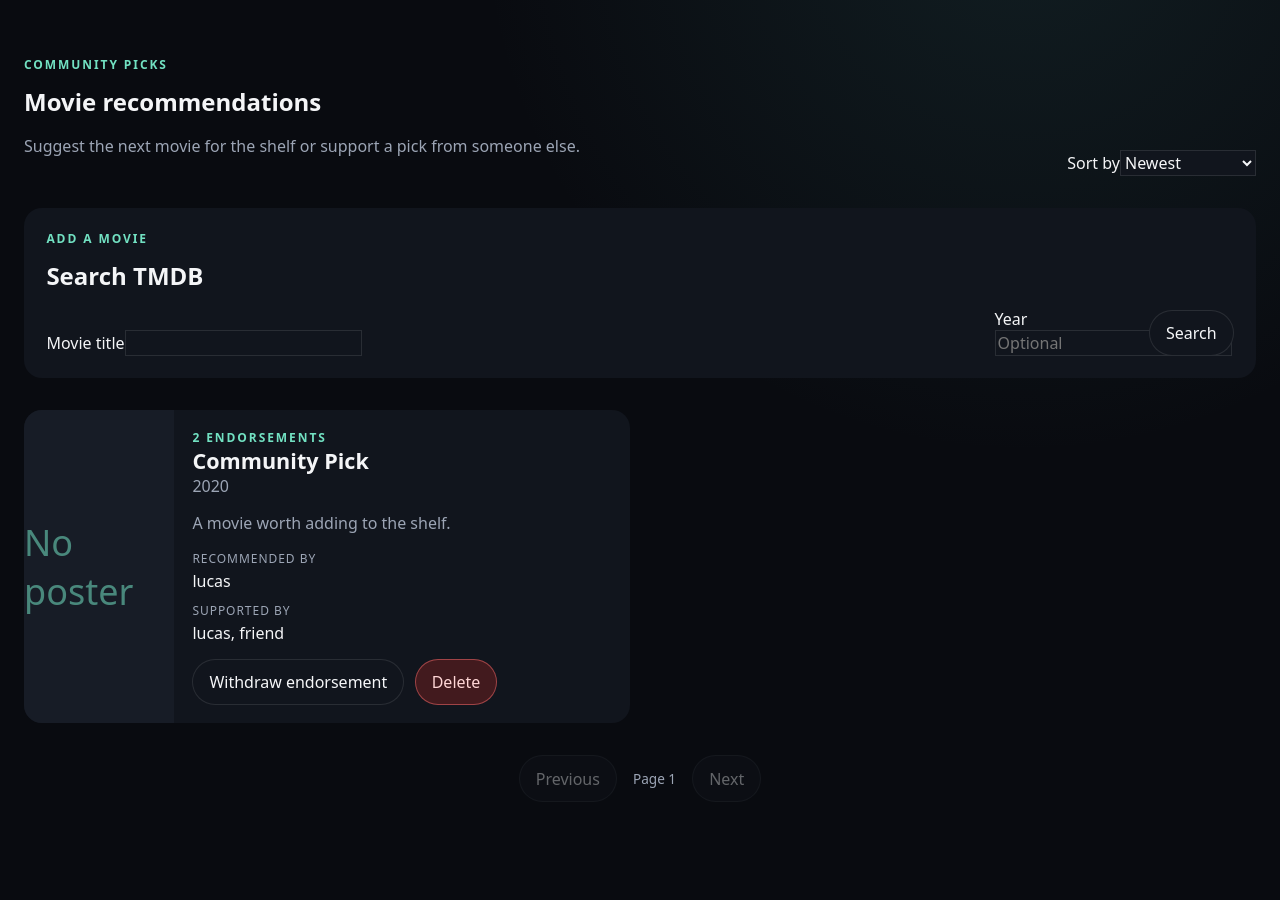
Test case: RecommendationsPage › allows an administrator to confirm permanent deletion
Click the button "Delete".
click(456, 682)  # box [415,659,497,705]
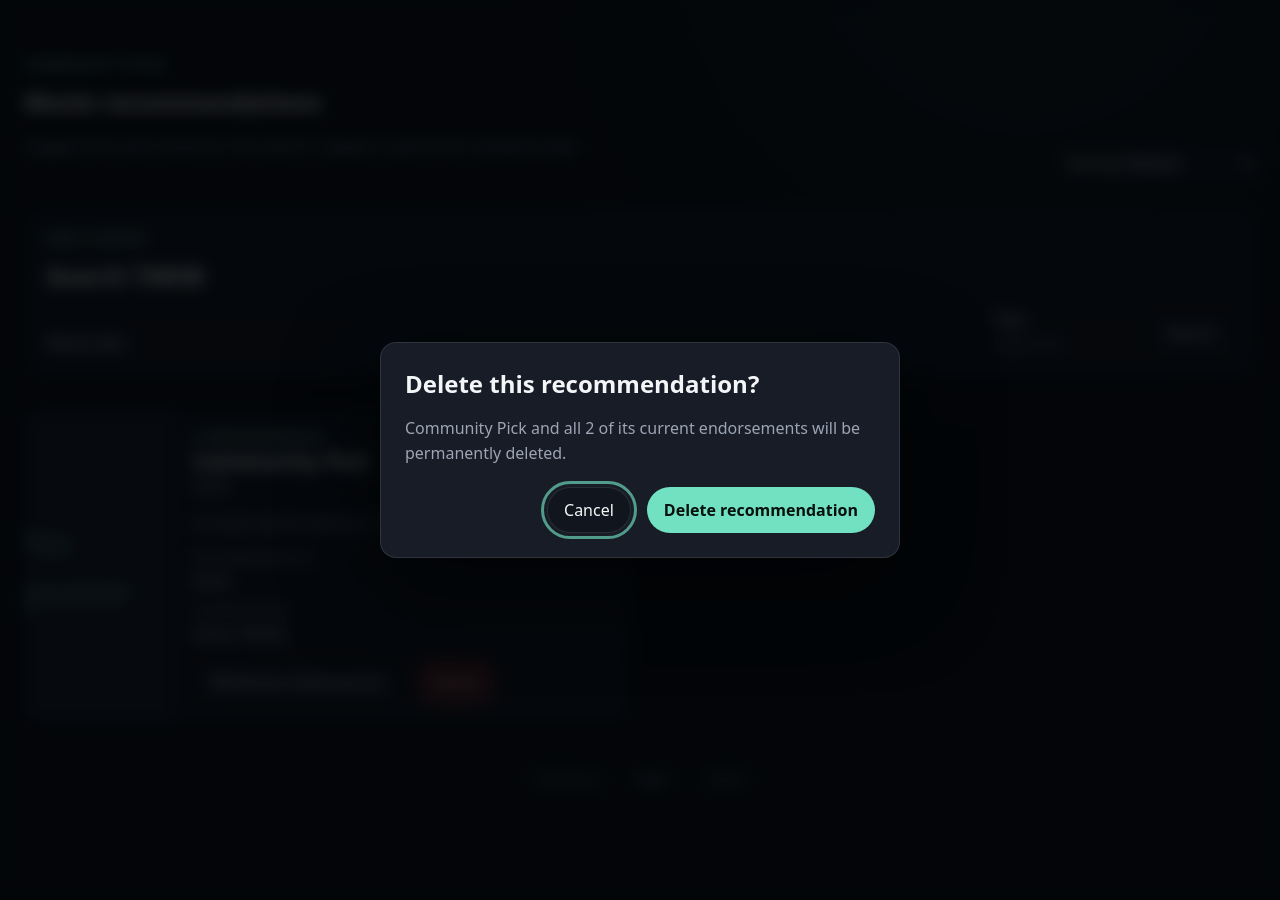
Click the button "Delete recommendation".
click(761, 510)  # box [647,487,875,533]
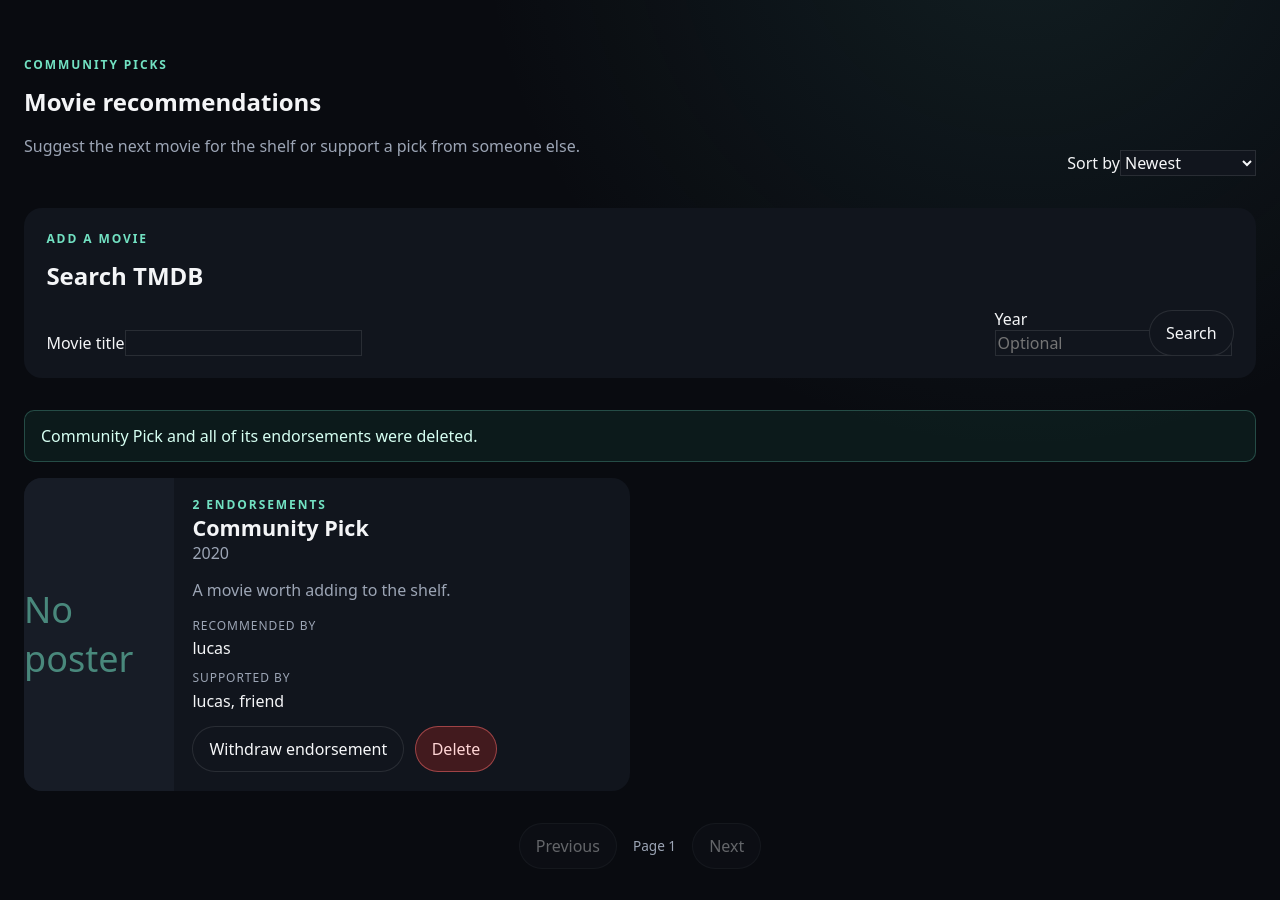
Check: the text "Community Pick and all of its endorsements were deleted." is shown, box [24,410,1256,462]
